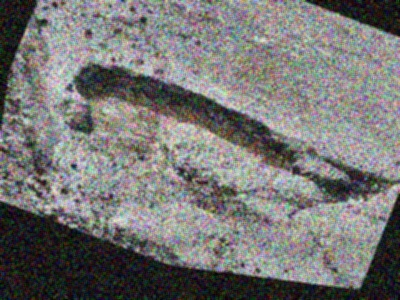pothole: (40, 43, 324, 226), (298, 148, 400, 228)
